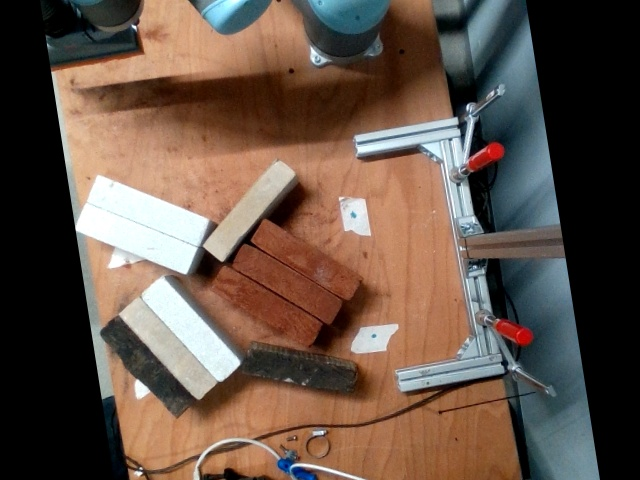brick-side: (121, 299, 215, 399), (143, 280, 236, 379), (100, 318, 192, 415), (205, 161, 290, 258), (254, 223, 358, 298), (235, 245, 339, 320), (216, 268, 320, 343), (76, 205, 193, 271), (90, 178, 204, 243), (243, 354, 353, 390)
